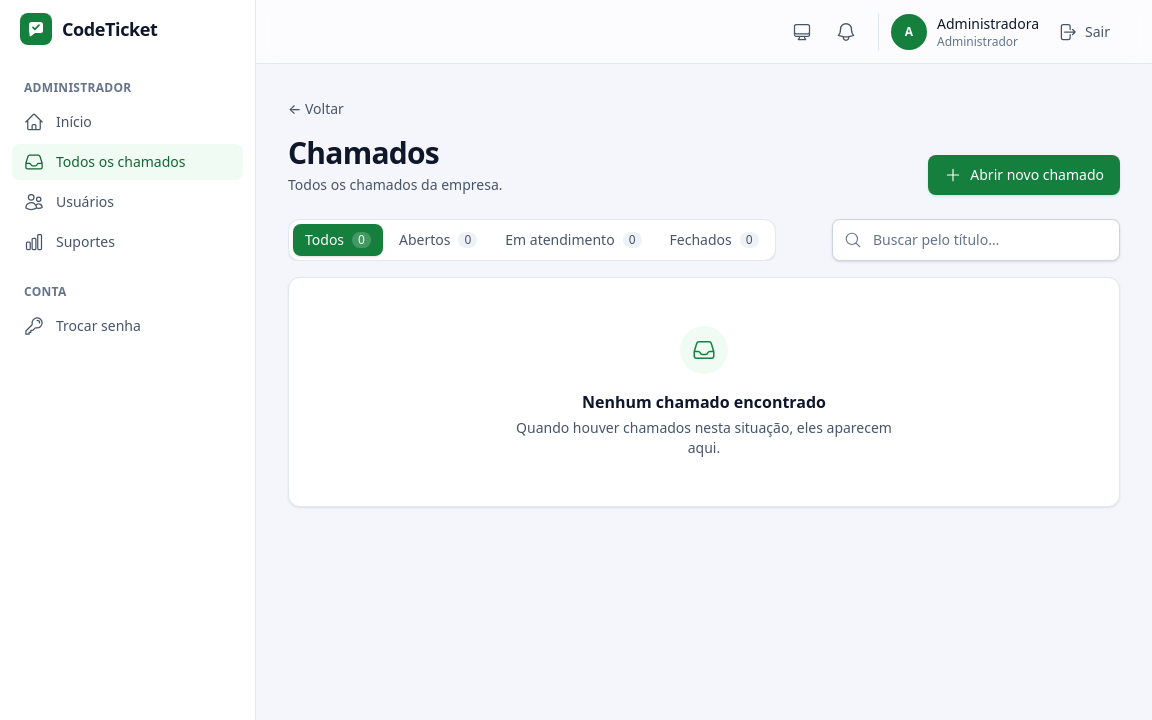
Scenario: TicketsView › opens a ticket in a dialog and refreshes the list right away
The image size is (1152, 720).
Check: the text "Nenhum chamado encontrado" is shown, box [582,390,826,414]
Click the button "Abrir novo chamado": {"x": 1024, "y": 175} [928,155,1120,195]
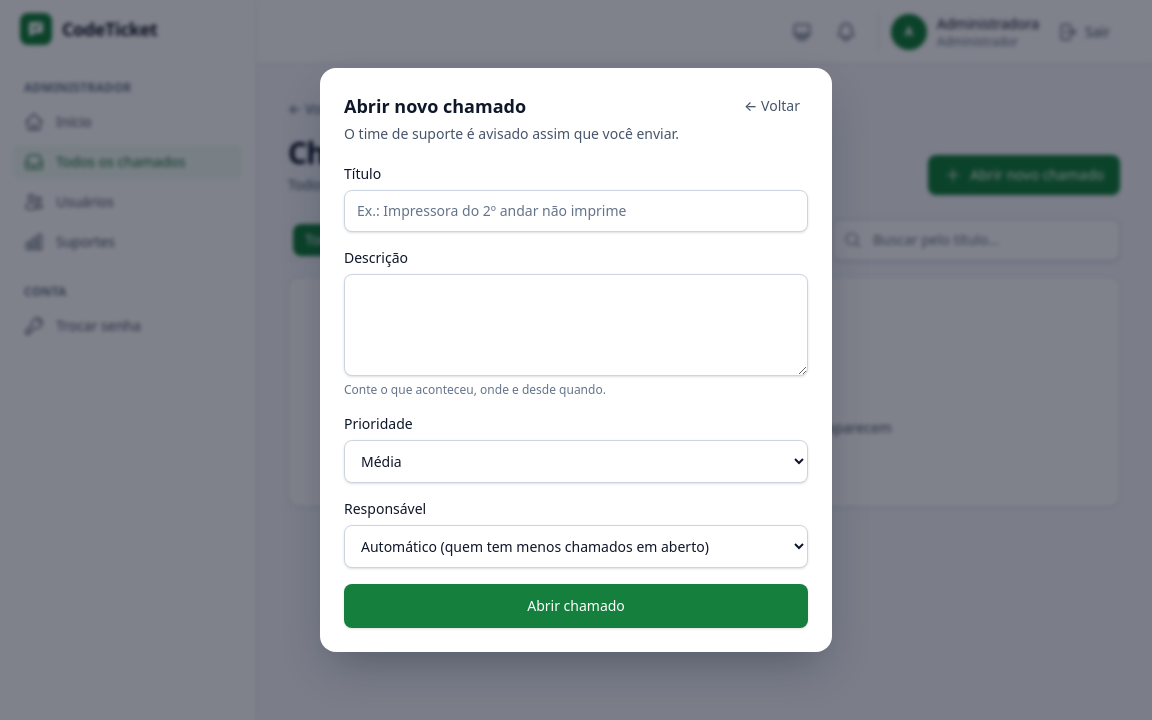
In the field labelled "Título": {"x": 576, "y": 211} [344,190,808,232], type "Impressora"
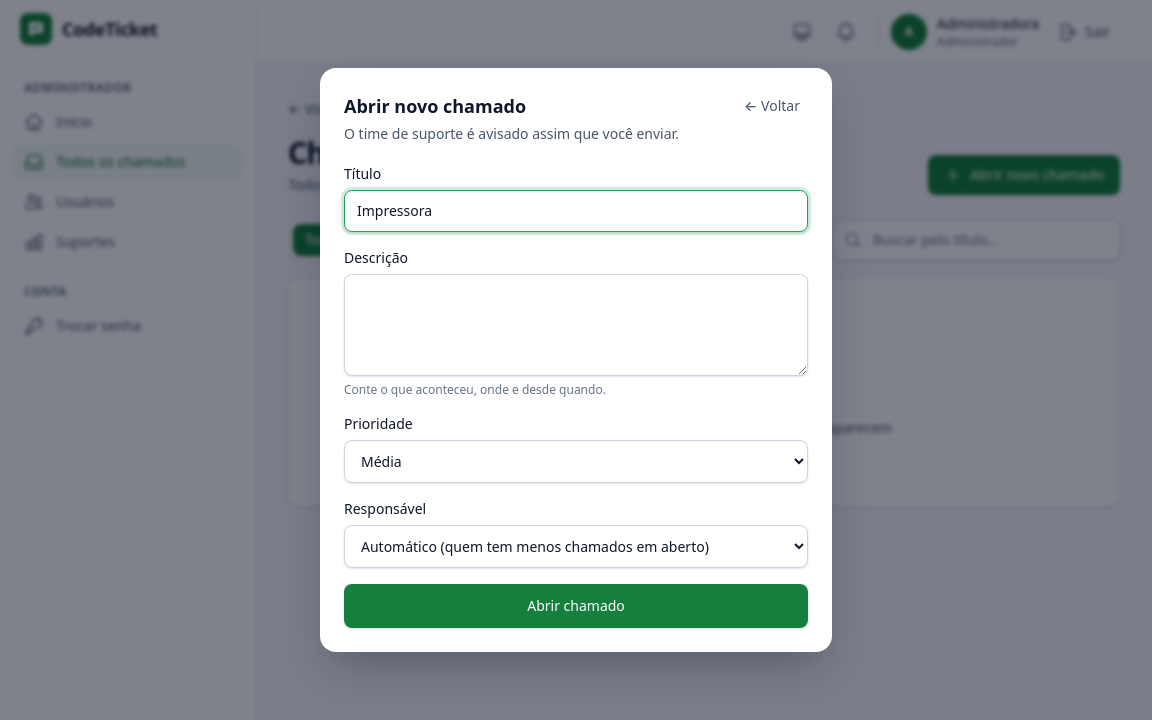
In the text box labelled "Descrição": {"x": 576, "y": 325} [344,274,808,376], type "Não imprime"
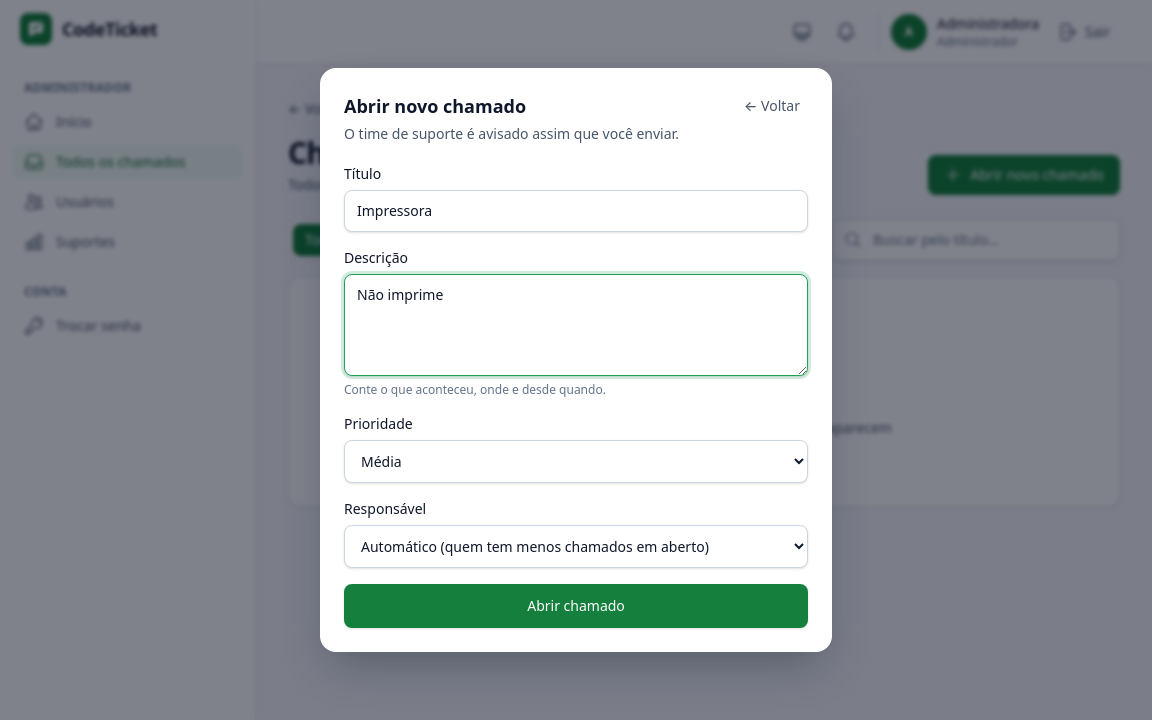
Click the button "Abrir chamado": {"x": 576, "y": 606} [344,584,808,628]
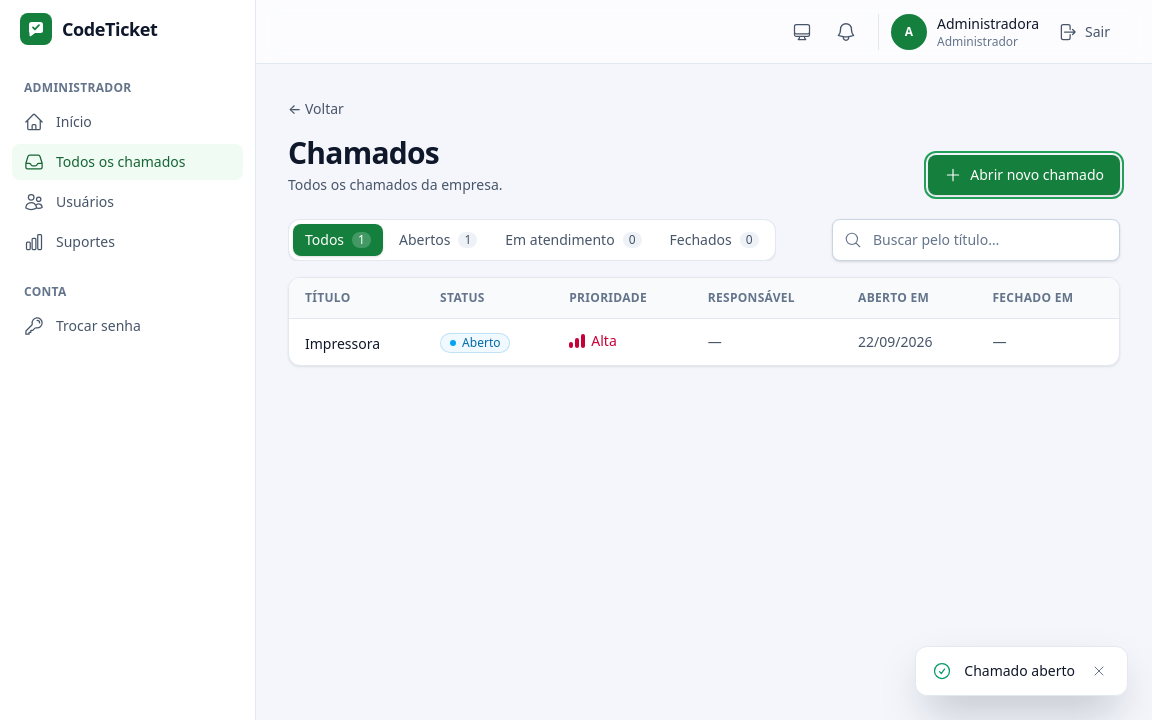
Check: the link "Impressora" is shown, box [305,334,380,353]
Check: the dialog is gone
